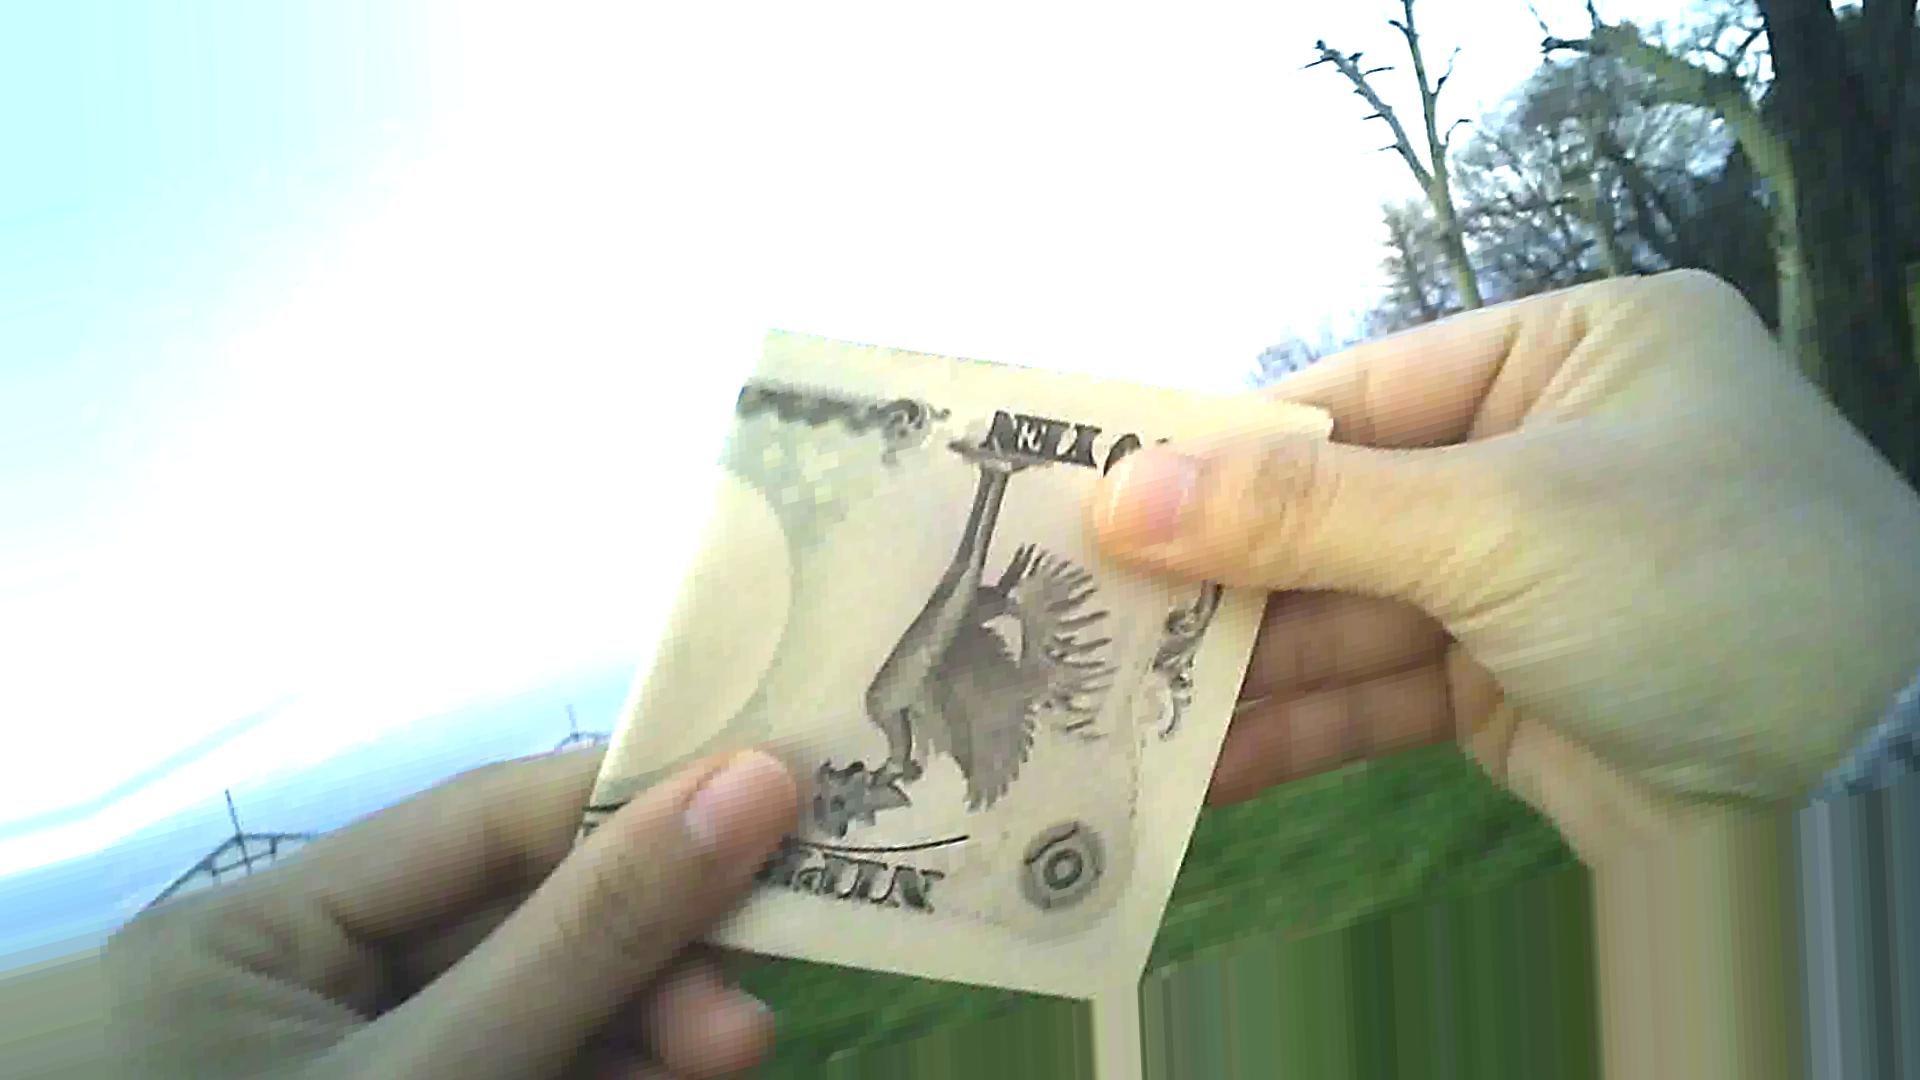10,000 Yen: (576, 313, 1336, 1021)
